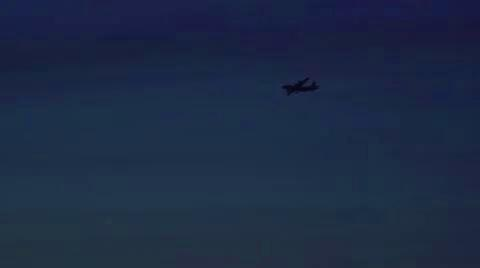Plane: (265, 70, 338, 102)
